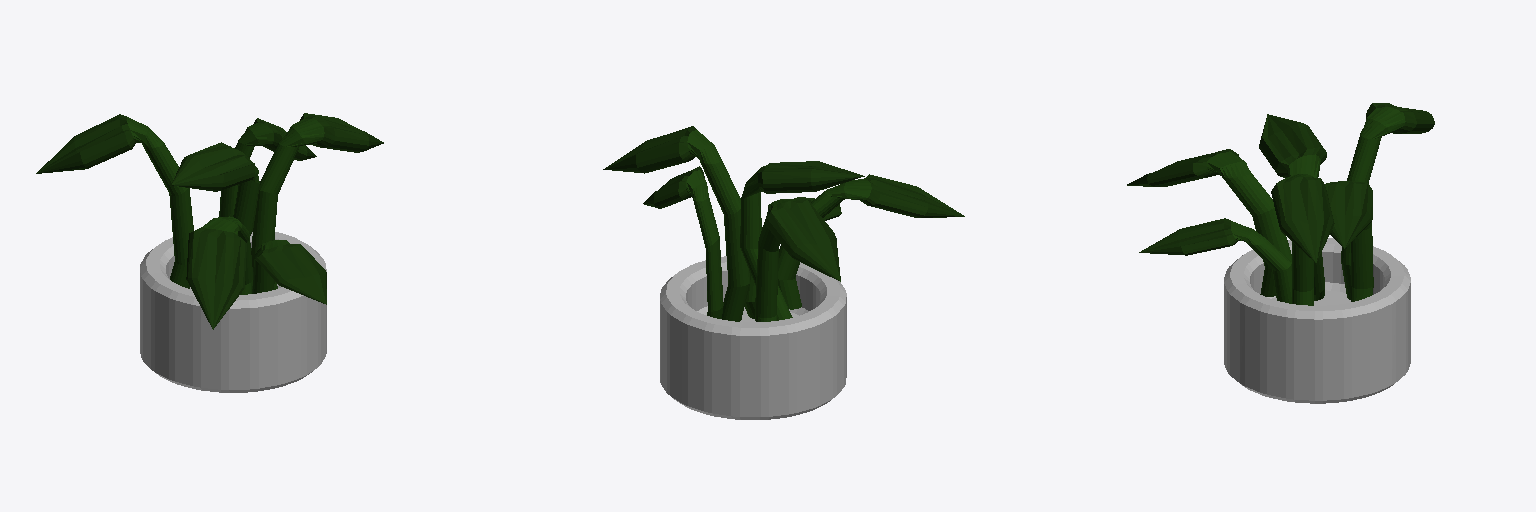
Rendered from Additive_Plant_Mesh.obj.
3 renders of one model, left to right at view 1: azimuth 30°, elevation 25°; view 2: azimuth 150°, elevation 25°; view 3: azimuth 270°, elevation 25°, orthographic.
Visible parts, largest first — view 1: pCone8 polySurface2, pCone8 polySurface5, pCone8 polySurface6, pCone8 polySurface4, polySurface7 pCone8, pCone8 polySurface1, pCone8 polySurface3; view 2: pCone8 polySurface2, pCone8 polySurface4, pCone8 polySurface5, pCone8 polySurface6, polySurface7 pCone8, pCone8 polySurface3; view 3: pCone8 polySurface2, pCone8 polySurface4, pCone8 polySurface6, pCone8 polySurface3, pCone8 polySurface1, polySurface7 pCone8, pCone8 polySurface5.
Boxes of the visible parts, <box> form: pCone8 polySurface2: <box>140,232,326,392</box>; pCone8 polySurface5: <box>36,114,193,288</box>; pCone8 polySurface6: <box>186,216,252,329</box>; pCone8 polySurface4: <box>251,113,383,289</box>; polySurface7 pCone8: <box>171,142,259,235</box>; pCone8 polySurface1: <box>252,240,326,304</box>; pCone8 polySurface3: <box>219,118,316,216</box>; pCone8 polySurface2: <box>660,256,846,419</box>; pCone8 polySurface4: <box>603,126,750,321</box>; pCone8 polySurface5: <box>755,199,840,321</box>; pCone8 polySurface6: <box>778,174,964,309</box>; polySurface7 pCone8: <box>740,161,864,320</box>; pCone8 polySurface3: <box>643,166,723,318</box>; pCone8 polySurface2: <box>1224,238,1410,403</box>; pCone8 polySurface4: <box>1271,174,1334,305</box>; pCone8 polySurface6: <box>1127,149,1291,296</box>; pCone8 polySurface3: <box>1325,181,1373,301</box>; pCone8 polySurface1: <box>1139,218,1291,303</box>; polySurface7 pCone8: <box>1259,114,1326,300</box>; pCone8 polySurface5: <box>1341,103,1434,299</box>.
Size of the model in its own units: 12.14 by 8.91 by 11.09.